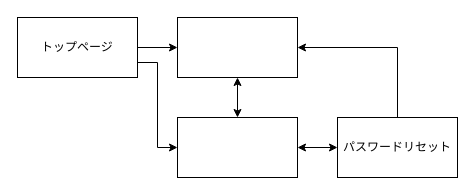
Image size: 475x195. Some labels were removed from this diagram. The centre of each missing label's shape, as x and y in pixels:
"ログイン" belongs at point (237, 147).
"新規登録" belongs at point (237, 47).
